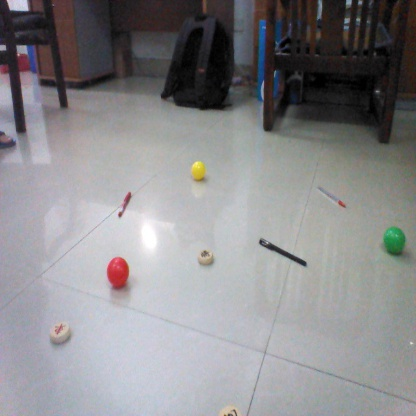ball: (106, 256, 128, 290), (382, 226, 408, 252), (189, 159, 208, 179)
chess: (49, 322, 72, 341), (197, 245, 213, 265), (218, 407, 243, 416)
pen: (257, 241, 308, 267), (318, 189, 346, 207), (118, 193, 134, 217)
